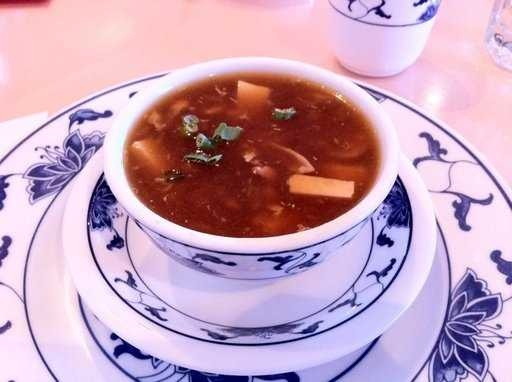soup: (114, 62, 385, 227)
